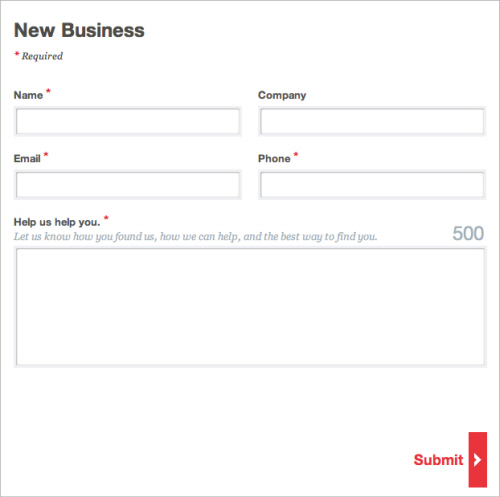field: (13, 246, 489, 370), (14, 105, 242, 139), (259, 105, 487, 138), (15, 169, 243, 201), (259, 169, 487, 200)
